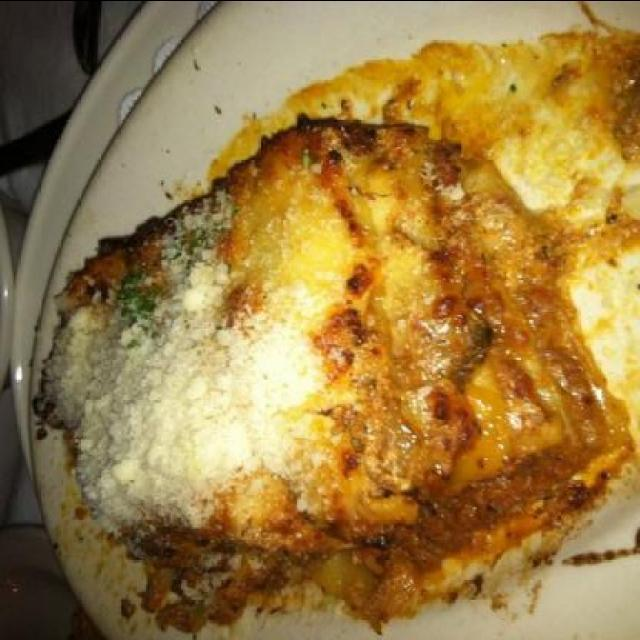Lasagna: (50, 89, 612, 608)
